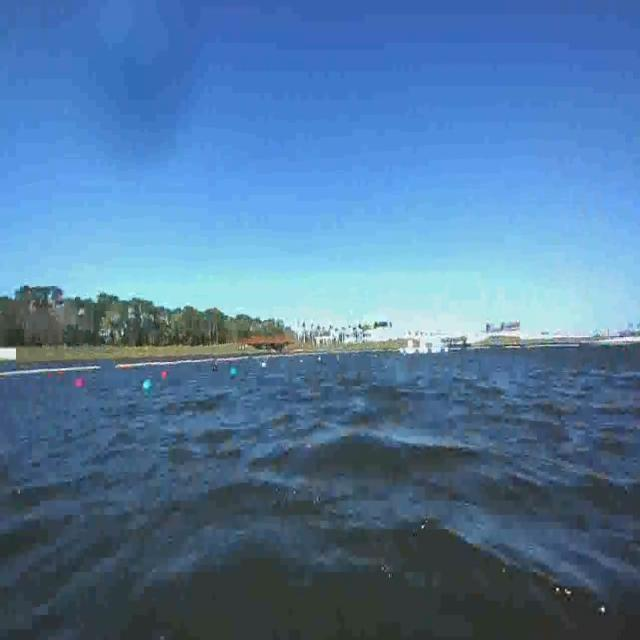green-buoy: (143, 379, 152, 392), (229, 364, 237, 377)
red-buoy: (74, 376, 84, 388), (161, 366, 169, 377)
